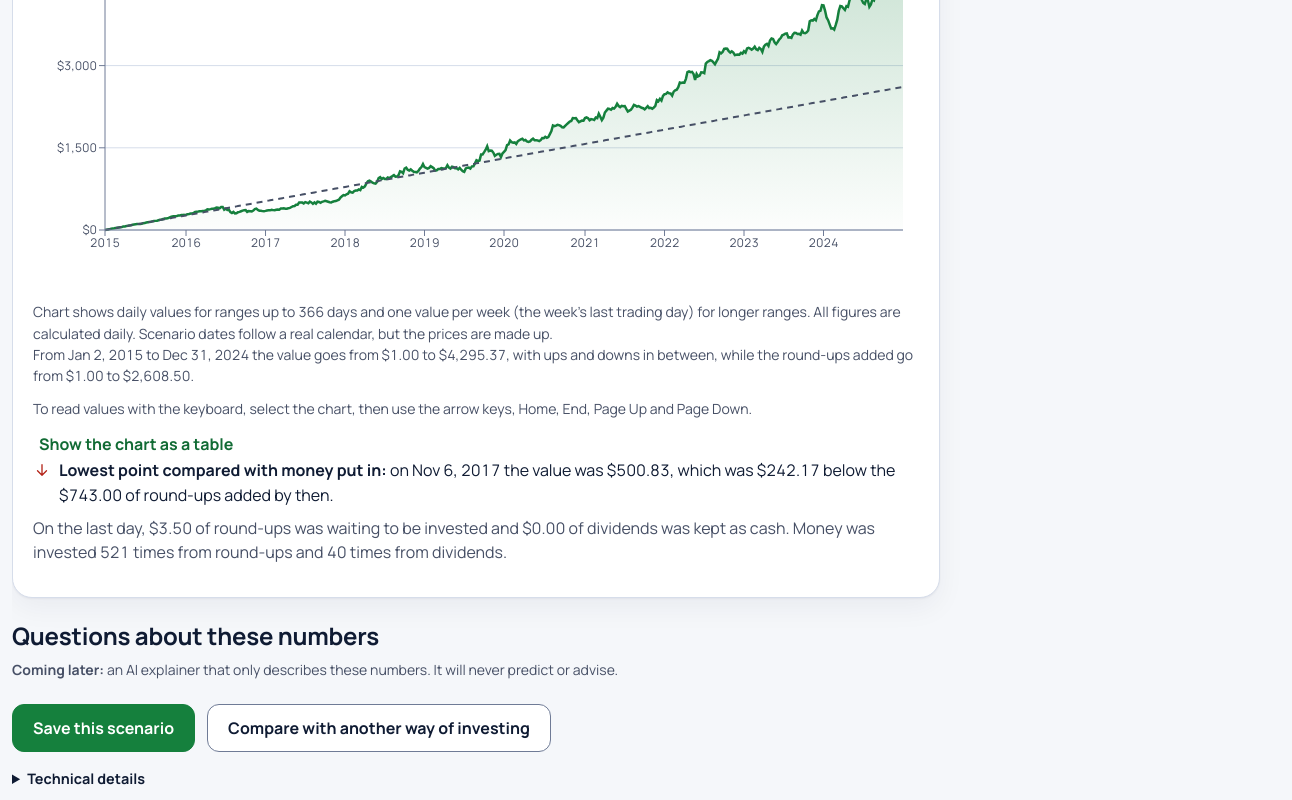
Test case: Results screen › signed in: save flow sends the user's token and the original request
(page scrolled)
Click the button "Save this scenario". click: click(104, 728)
box: [12,704,195,752]
(page scrolled)
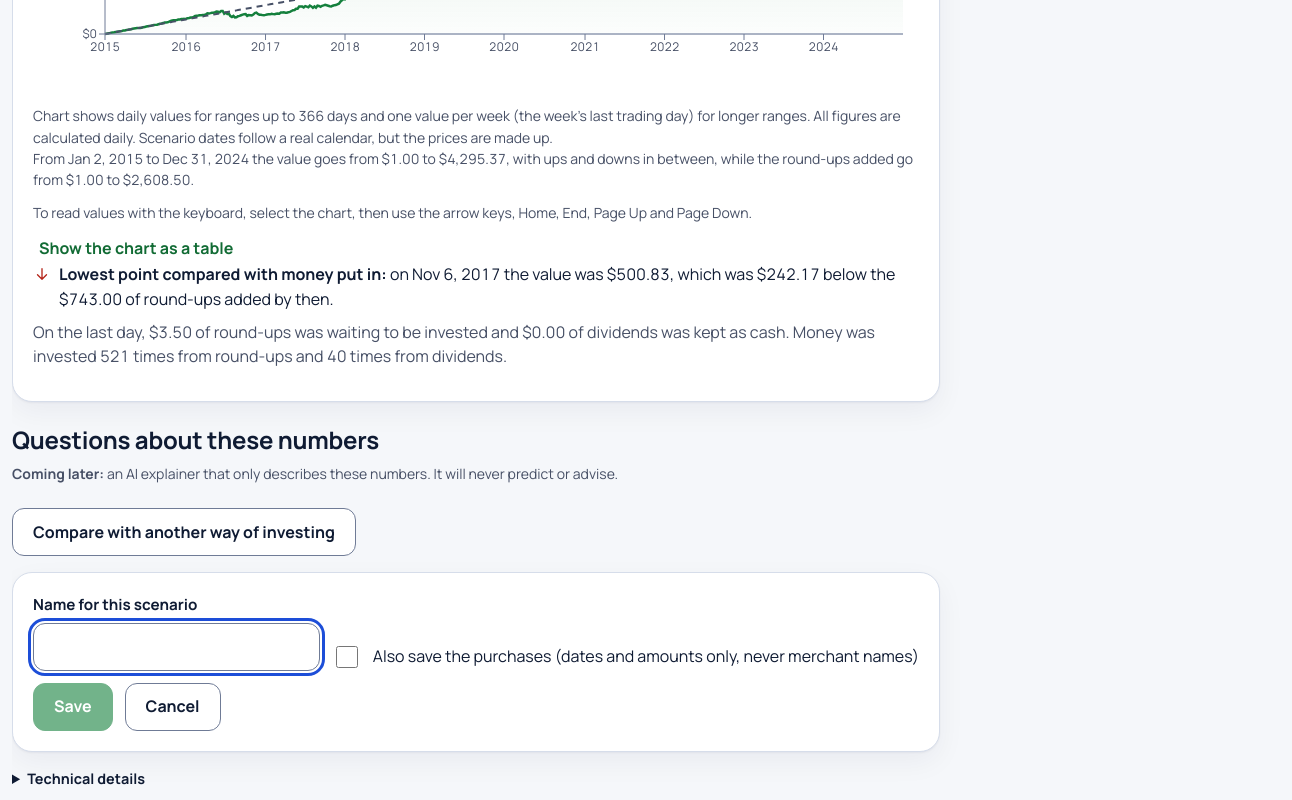
Type "Crash test" into the field labelled "Name for this scenario". click: (176, 647)
box: [33,623,320,671]
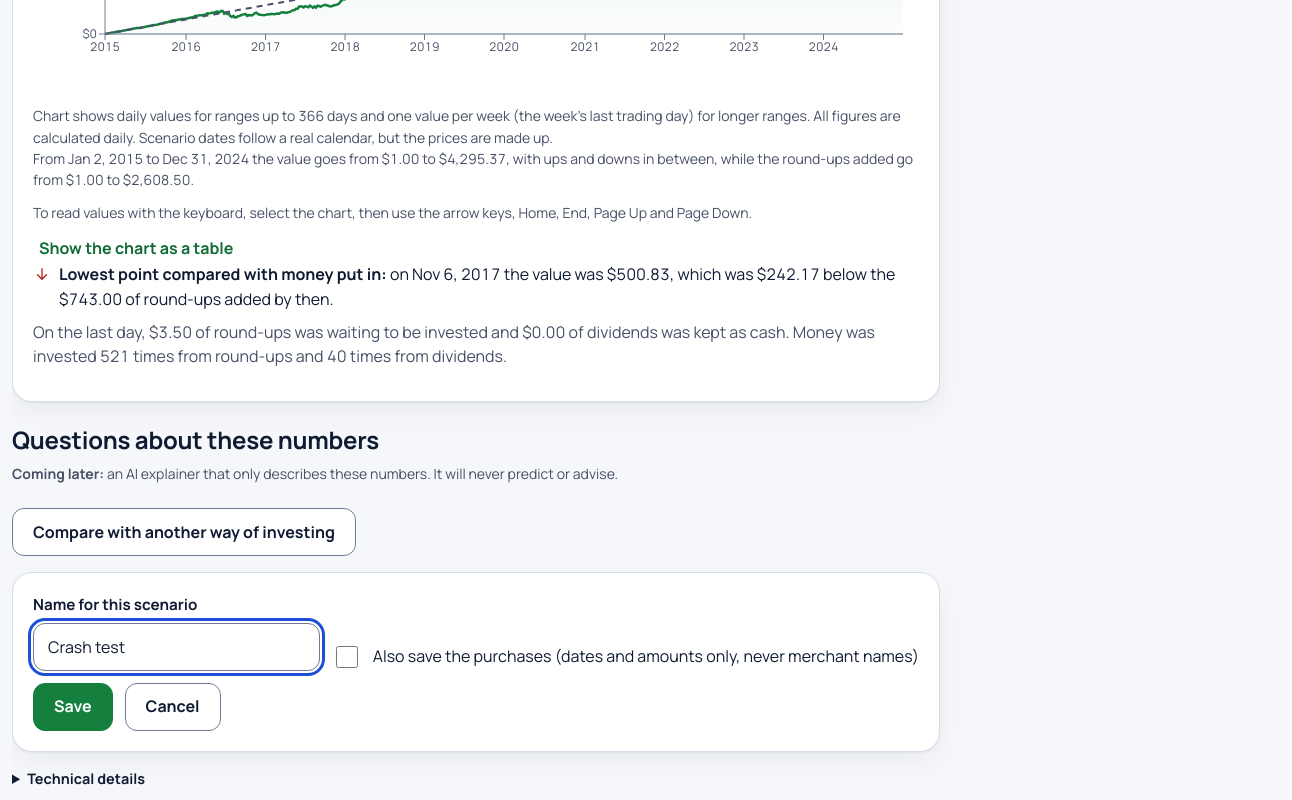
Click the button "Save". click: click(73, 707)
box: [33,683,113,731]
(page scrolled)
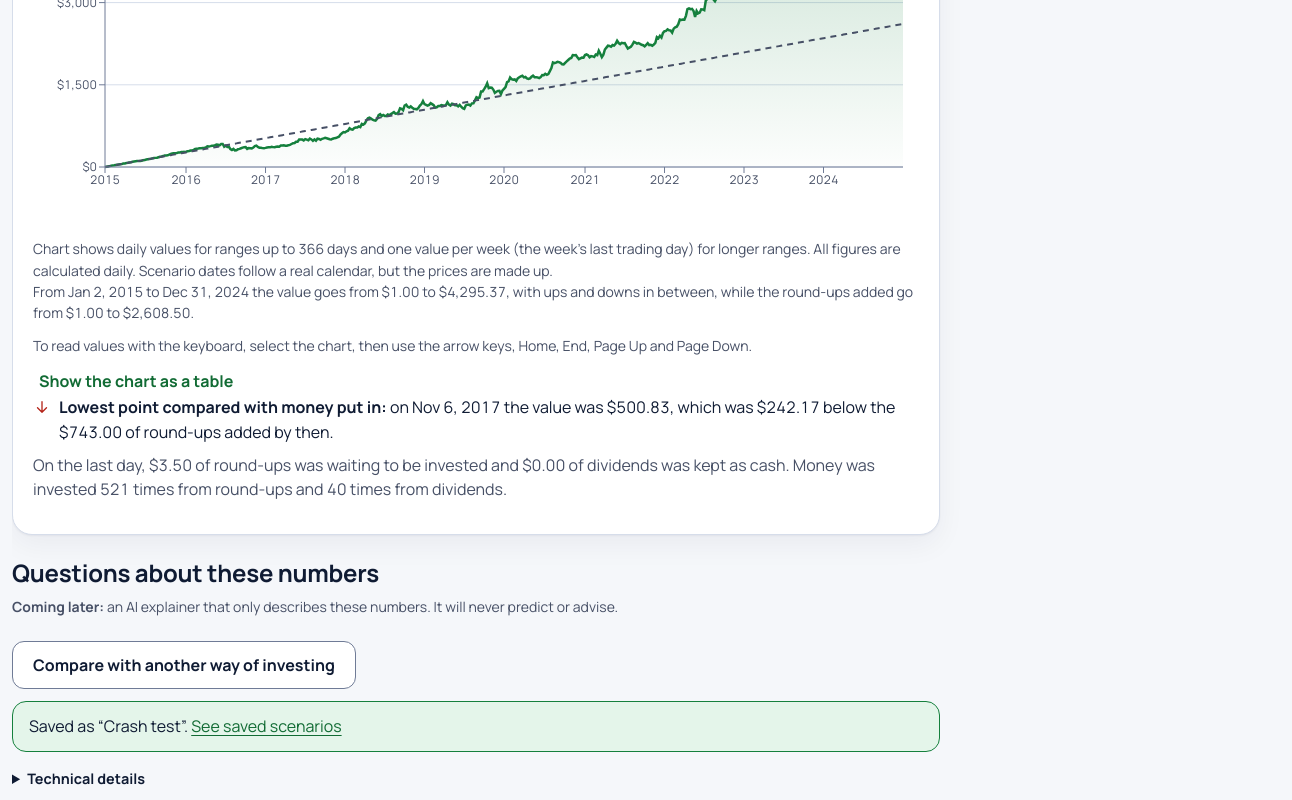
Now the message shows "Saved as “Crash test”", box [12,701,940,752]
